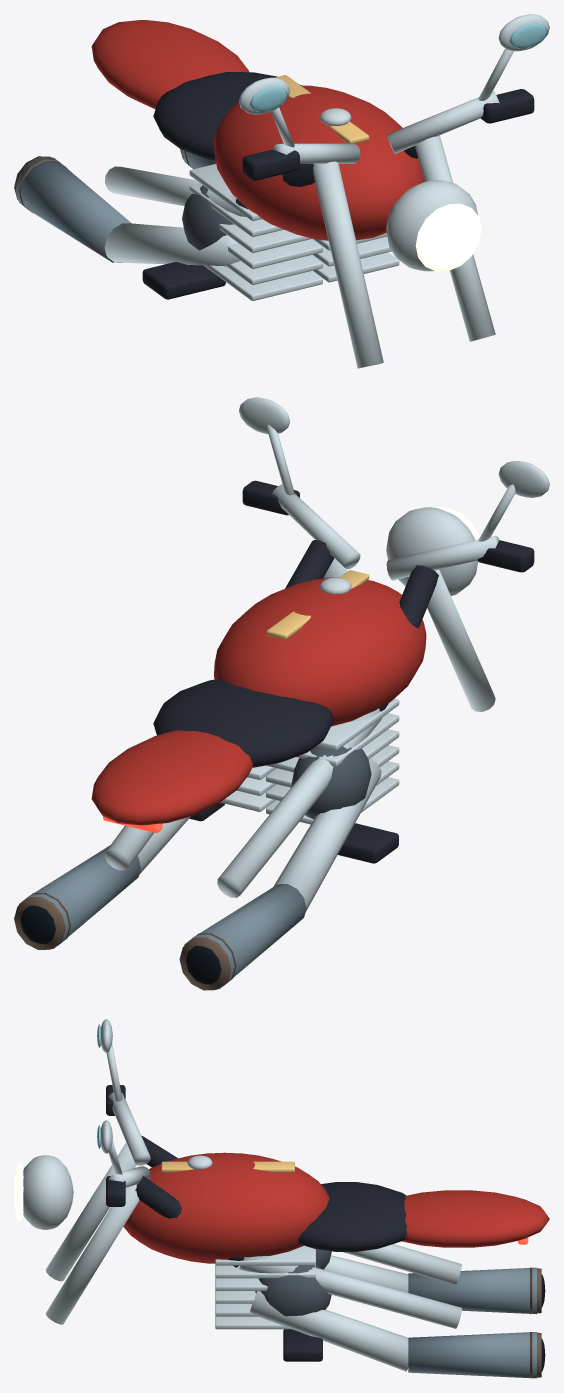
Rendered from yuda_bike.glb.
3 renders of one model, top to bottom at view 1: azimuth 30°, elevation 25°; view 2: azimuth 150°, elevation 25°; view 3: azimuth 270°, elevation 25°, orthographic. The views are drawn at different scales.
Visible parts, largest first — view 1: Sphere.008, Sphere.011, Cone.001, Cone.004, Sphere.010, Cone.003, Sphere.012, Sphere.013, Cone.009, Cone, Cone.014, Cube.007 (+20 smaller); view 2: Sphere.008, Sphere.011, Sphere.010, Cone, Cone.004, Cone.003, Cone.012, Sphere.012, Cone.001, Sphere, Cone.006, Cone.014 (+19 smaller); view 3: Sphere.008, Sphere.011, Sphere.010, Cone.012, Cone.004, Cone.011, Cone.008, Sphere.012, Cone.009, Cone.001, Sphere.004, Cone (+15 smaller).
Part boxes in pixels (x1,y1,x2,y2): Sphere.008: (214,85,424,240); Sphere.011: (91,20,249,109); Cone.001: (313,161,383,368); Cone.004: (15,157,131,262); Sphere.010: (153,72,301,160); Cone.003: (104,223,240,265); Sphere.012: (386,180,477,271); Sphere.013: (415,203,481,271); Cone.009: (415,135,495,341); Cone: (105,166,245,216); Cone.014: (387,91,499,153); Cube.007: (142,262,225,299); Sphere.008: (214,577,426,726); Sphere.011: (91,730,252,825); Sphere.010: (153,679,333,767); Cone: (217,708,381,897); Cone.004: (184,884,306,989); Cone.003: (273,758,381,911); Cone.012: (19,845,140,948); Sphere.012: (386,507,477,595); Cone.001: (427,569,495,711); Sphere: (291,746,371,819); Cone.006: (386,535,499,580); Cone.014: (272,484,360,569); Sphere.008: (123,1152,329,1263); Sphere.011: (402,1190,549,1247); Sphere.010: (298,1182,407,1251); Cone.012: (408,1332,536,1378); Cone.004: (408,1267,536,1314); Cone.011: (250,1291,408,1371); Cone.008: (239,1256,461,1328); Sphere.012: (23,1155,73,1229); Cone.009: (45,1184,139,1324); Cone.001: (45,1142,136,1281); Sphere.004: (255,1265,331,1316); Cone: (342,1244,461,1285).
Size of the model in its own units: 2.43 by 2.56 by 4.58.
